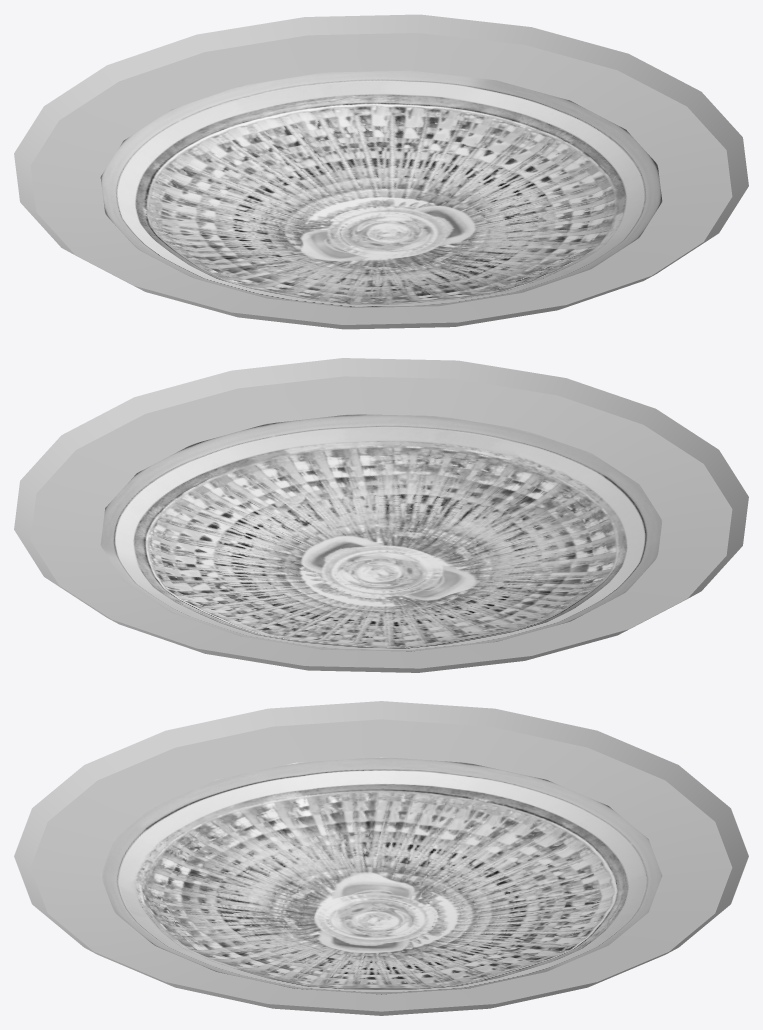
The model's file is LightCeiling01_2.FBX.
3 renders of one model, top to bottom at view 1: azimuth 30°, elevation 25°; view 2: azimuth 150°, elevation 25°; view 3: azimuth 270°, elevation 25°, orthographic.
Visible parts, largest first — view 1: LightCeiling01_2; view 2: LightCeiling01_2; view 3: LightCeiling01_2.
Part boxes in pixels (box(x1,y1,x2,y2)): LightCeiling01_2: box(14, 14, 748, 329); LightCeiling01_2: box(14, 358, 748, 672); LightCeiling01_2: box(14, 701, 748, 1015).
Size of the model in its own units: 16.97 by 1.6 by 16.97.
